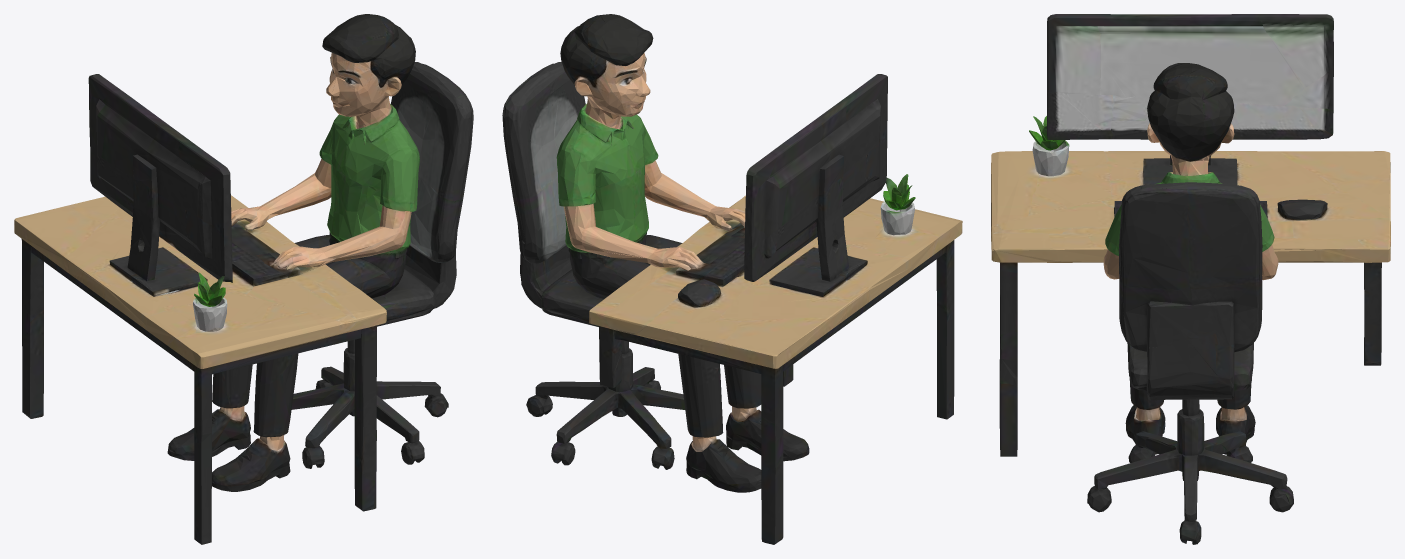
Rendered from wfhman.glb.
3 views of the same model, side by side, from view 1: azimuth 30°, elevation 25°; view 2: azimuth 150°, elevation 25°; view 3: azimuth 270°, elevation 25° (orthographic). The views are drawn at different scales.
Visible parts, largest first — view 1: tripo_node_639cfabb-fd06-4784-8fe6-e9ddd44fb0a2; view 2: tripo_node_639cfabb-fd06-4784-8fe6-e9ddd44fb0a2; view 3: tripo_node_639cfabb-fd06-4784-8fe6-e9ddd44fb0a2.
Boxes of the visible parts, <box> form: tripo_node_639cfabb-fd06-4784-8fe6-e9ddd44fb0a2: <box>14,14,473,544</box>; tripo_node_639cfabb-fd06-4784-8fe6-e9ddd44fb0a2: <box>502,14,962,544</box>; tripo_node_639cfabb-fd06-4784-8fe6-e9ddd44fb0a2: <box>991,14,1390,544</box>.
Bounding box in the file's own units: 0.8654 × 0.9991 × 0.824.
1 material, 1 textured.
